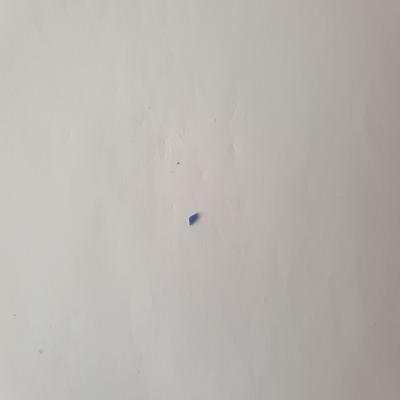plastic: (182, 207, 209, 231)
